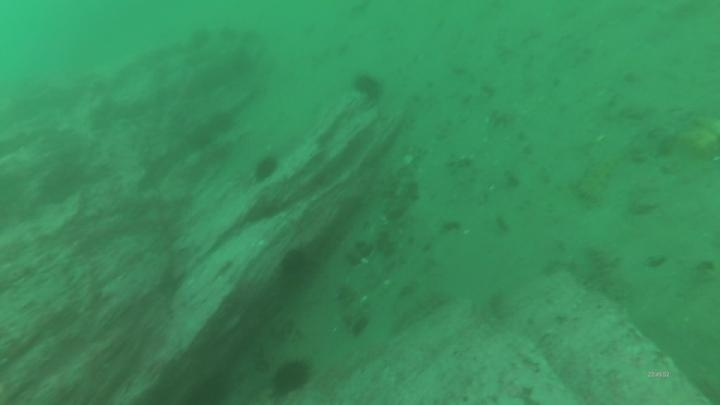echinus: (263, 359, 317, 405), (251, 153, 280, 185), (280, 247, 310, 277), (352, 73, 384, 101), (212, 109, 236, 136), (189, 26, 215, 50), (237, 29, 264, 50), (215, 25, 239, 47)
holothurian: (575, 144, 622, 204), (344, 215, 390, 269), (332, 282, 374, 337), (387, 162, 420, 223)
